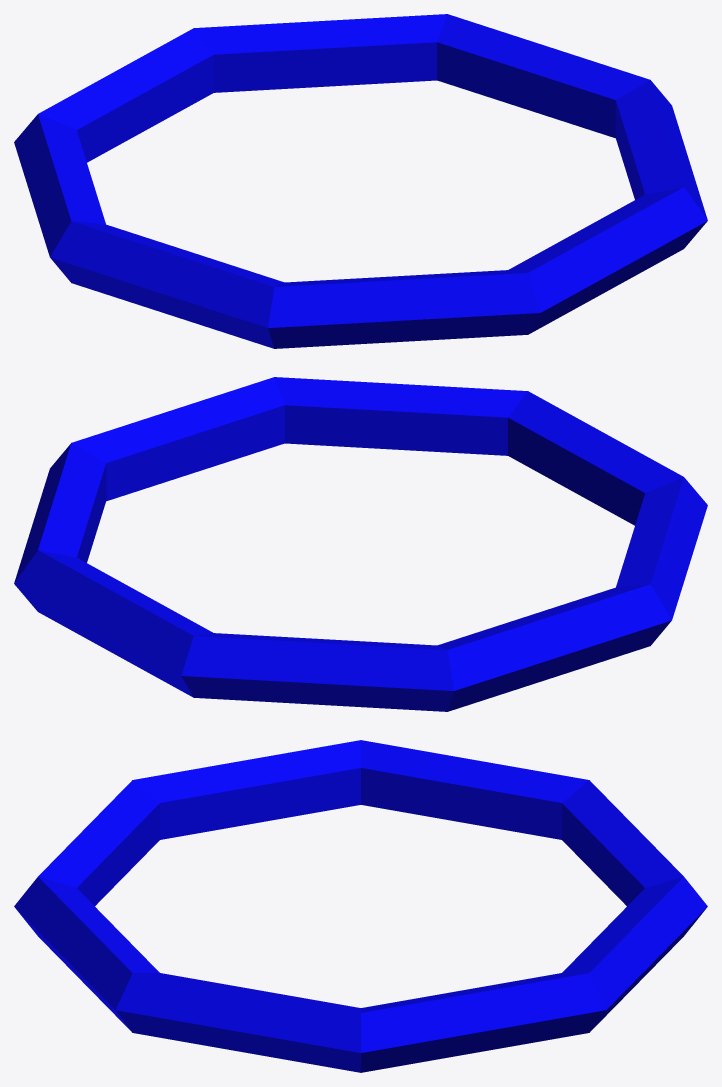
The model's file is ring.obj.
The picture shows the model from 3 angles, top to bottom: view 1: azimuth 30°, elevation 25°; view 2: azimuth 150°, elevation 25°; view 3: azimuth 270°, elevation 25°; orthographic projection. The views are drawn at different scales.
Parts seen in each view (by area): view 1: Тор; view 2: Тор; view 3: Тор.
Part boxes in pixels (x1,y1,x2,y2): Тор: (14, 14, 707, 348); Тор: (14, 377, 707, 711); Тор: (14, 740, 707, 1072).
Size of the model in its own units: 2 by 0.1902 by 2.
